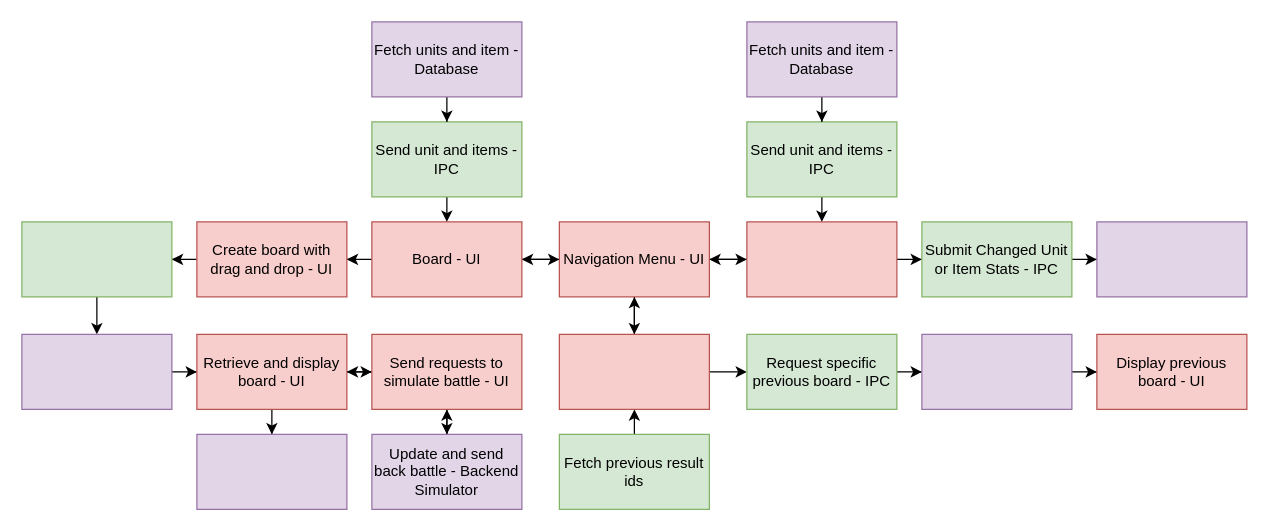
Image size: 1269x531. Some labels were removed from this diagram. Each missing label, with the box of its shape:
Change Unit and Item Stats - UI: (746, 221, 897, 297)
Fetch previous board: (921, 333, 1072, 409)
Previous Results - UI: (558, 333, 709, 409)
Send board - IPC: (21, 221, 172, 297)
Store board - Store: (21, 333, 172, 409)
Store board once battle is over.: (196, 433, 347, 509)
Store changed unit or item stats - Database: (1096, 221, 1247, 297)
